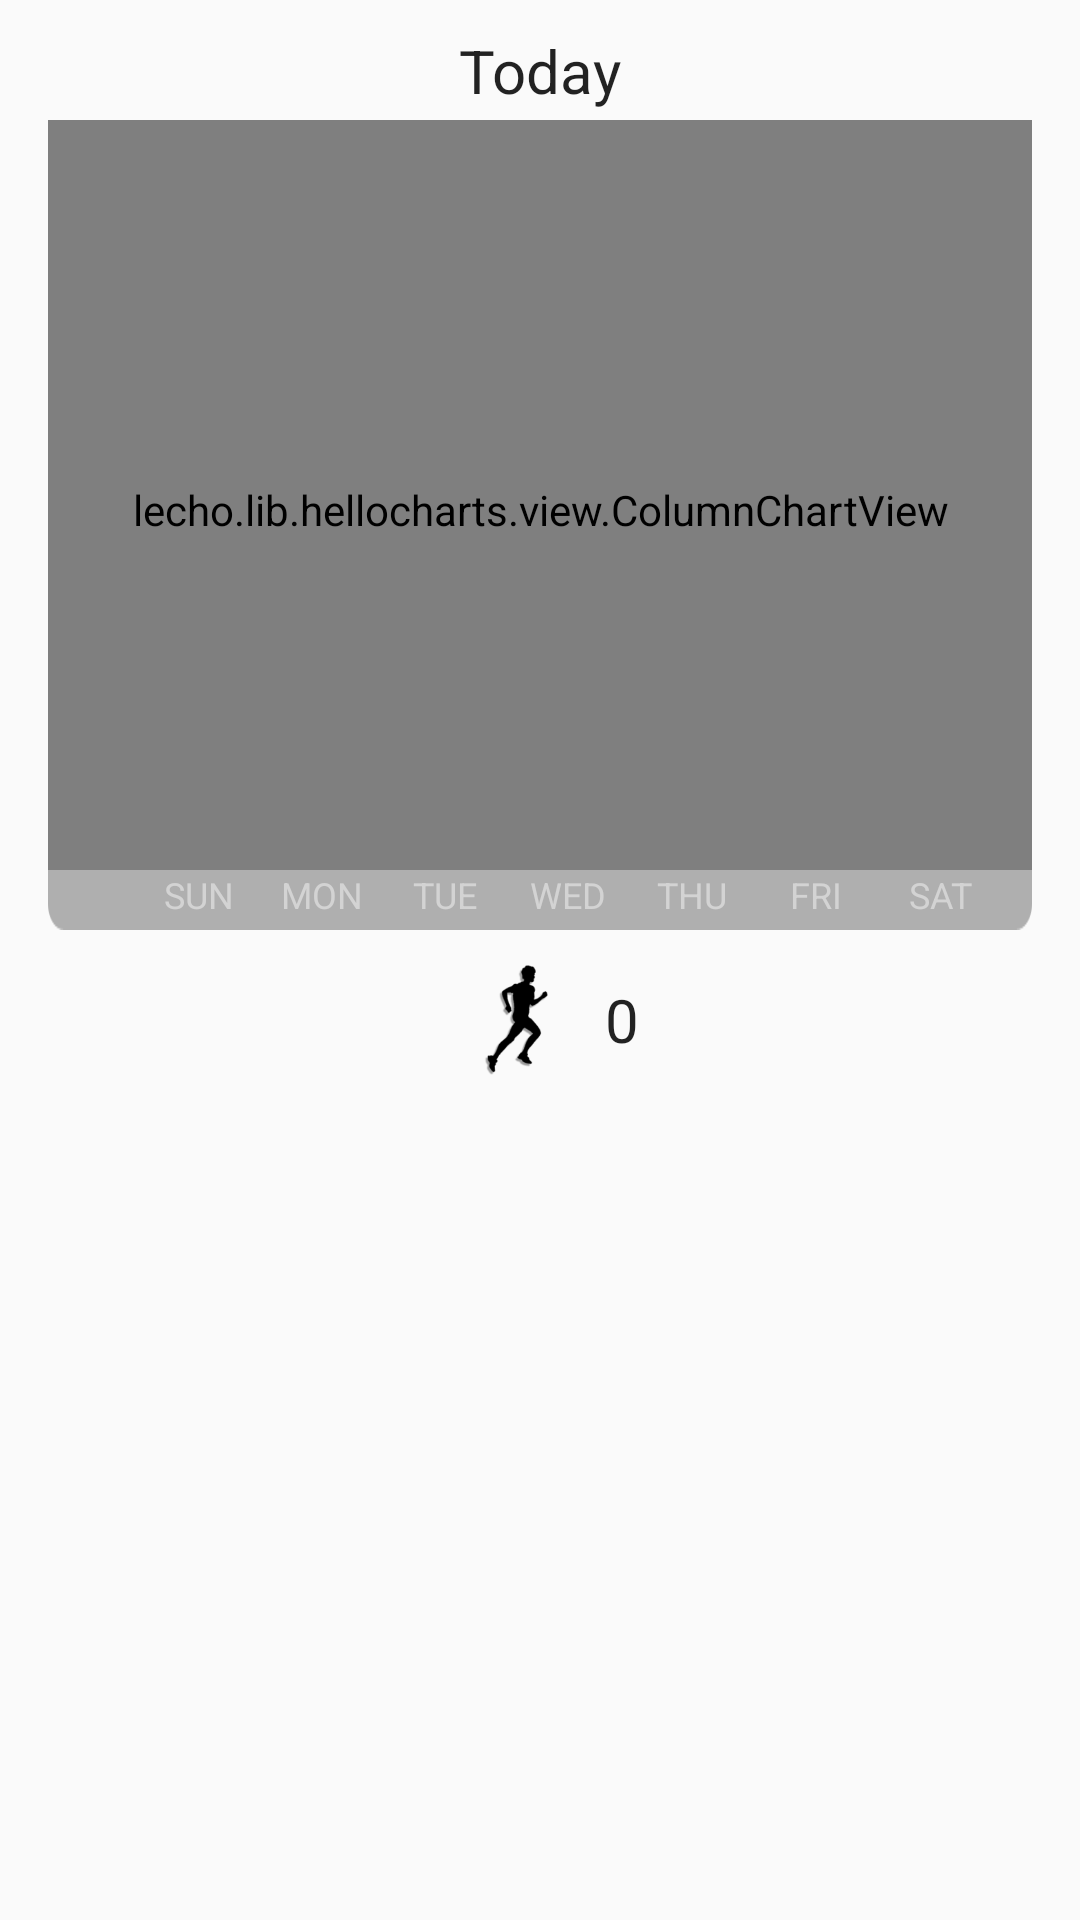

Point at icon controls on the screen. Image size 1080 × 1920, points as (x=x, y=y).
day sport: (x=516, y=1019)
